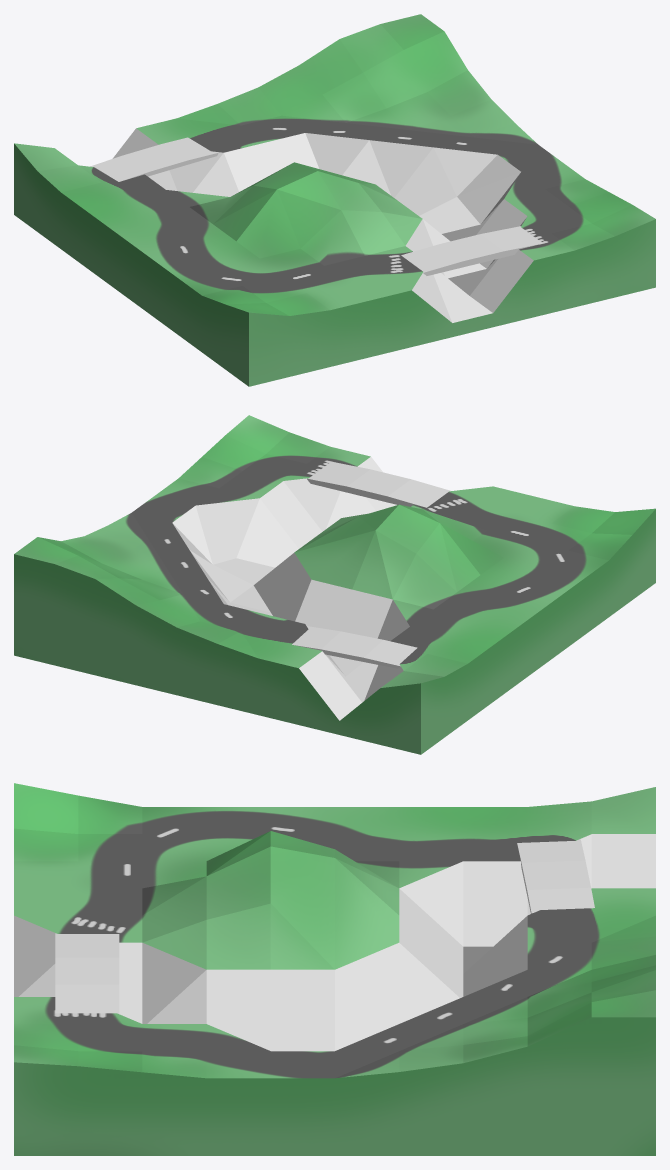
Rendered from Map.FBX.
3 renders of one model, top to bottom at view 1: azimuth 30°, elevation 25°; view 2: azimuth 150°, elevation 25°; view 3: azimuth 270°, elevation 25°, orthographic. The views are drawn at different scales.
Parts seen in each view (by area): view 1: Land, River, Bridge1, Bridge002; view 2: Land, River, Bridge1, Bridge002; view 3: Land, River, Bridge1, Bridge002.
Part boxes in pixels (left/top/right/bottom): Land: left=14, top=14, right=655, bottom=386; River: left=112, top=128, right=533, bottom=322; Bridge1: left=401, top=226, right=542, bottom=275; Bridge002: left=90, top=137, right=218, bottom=181; Land: left=14, top=415, right=655, bottom=754; River: left=172, top=457, right=409, bottom=720; Bridge1: left=306, top=461, right=450, bottom=507; Bridge002: left=292, top=626, right=417, bottom=668; Land: left=14, top=783, right=655, bottom=1155; River: left=14, top=834, right=655, bottom=1051; Bridge1: left=55, top=933, right=119, bottom=1013; Bridge002: left=517, top=839, right=594, bottom=913.
Size of the model in its own units: 75 by 18.9 by 75.
1 material, 1 textured.
